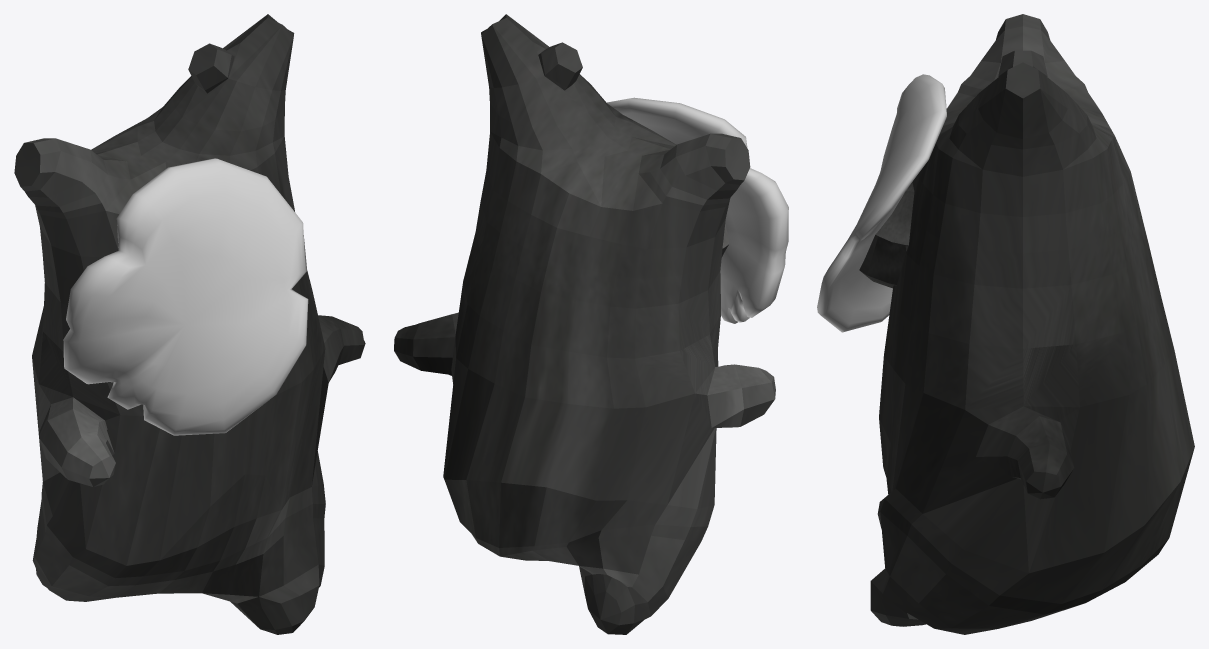
File: frame_0003.obj
The picture shows the model from 3 angles, left to right: view 1: azimuth 30°, elevation 25°; view 2: azimuth 150°, elevation 25°; view 3: azimuth 270°, elevation 25°; orthographic projection. The views are drawn at different scales.
Visible parts, largest first — view 1: korok, leaf; view 2: korok, leaf; view 3: korok, leaf, nose.
Boxes of the visible parts, x1=… form: korok: x1=14, y1=14, x2=365, y2=634; leaf: x1=63, y1=158, x2=308, y2=435; korok: x1=394, y1=14, x2=775, y2=634; leaf: x1=607, y1=97, x2=788, y2=323; korok: x1=870, y1=14, x2=1194, y2=634; leaf: x1=817, y1=74, x2=946, y2=332; nose: x1=859, y1=181, x2=914, y2=288.
Size of the model in its own units: 1.55 by 2.37 by 1.37.
